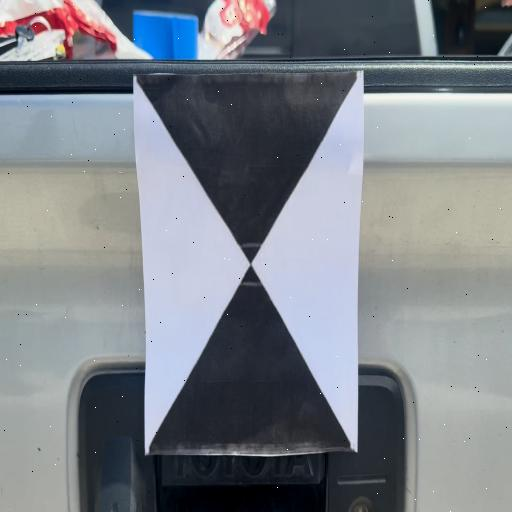target: (138, 77, 352, 451)
